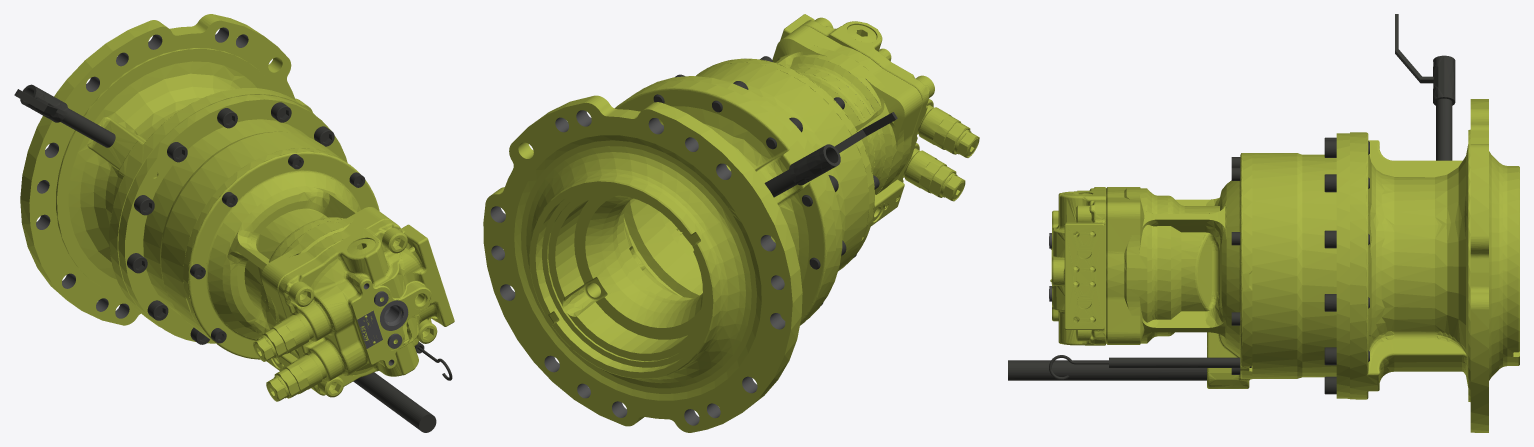
File: EX200_SwingPackDraco.glb
The picture shows the model from 3 angles, left to right: view 1: azimuth 30°, elevation 25°; view 2: azimuth 150°, elevation 25°; view 3: azimuth 270°, elevation 25°; orthographic projection. The views are drawn at different scales.
Bounding box in the file's own units: 0.5297 × 0.4595 × 0.6895.
